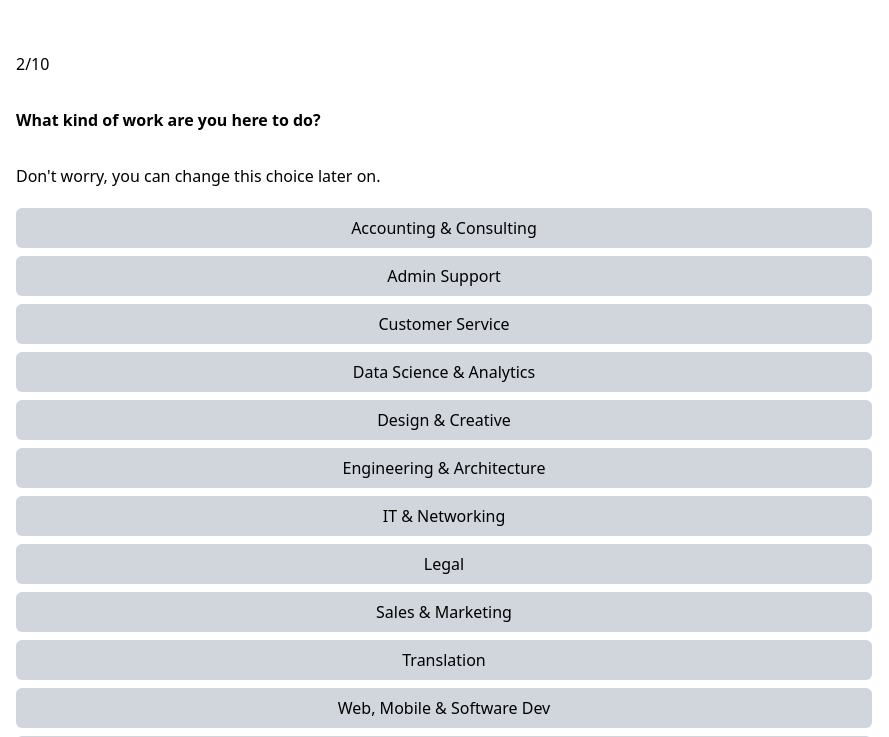
it: Step6 Component › enables the Next button when a category is selected
Step 1. Click the button "Accounting & Consulting" → (444, 228), box [16,208,872,248]
(page scrolled)
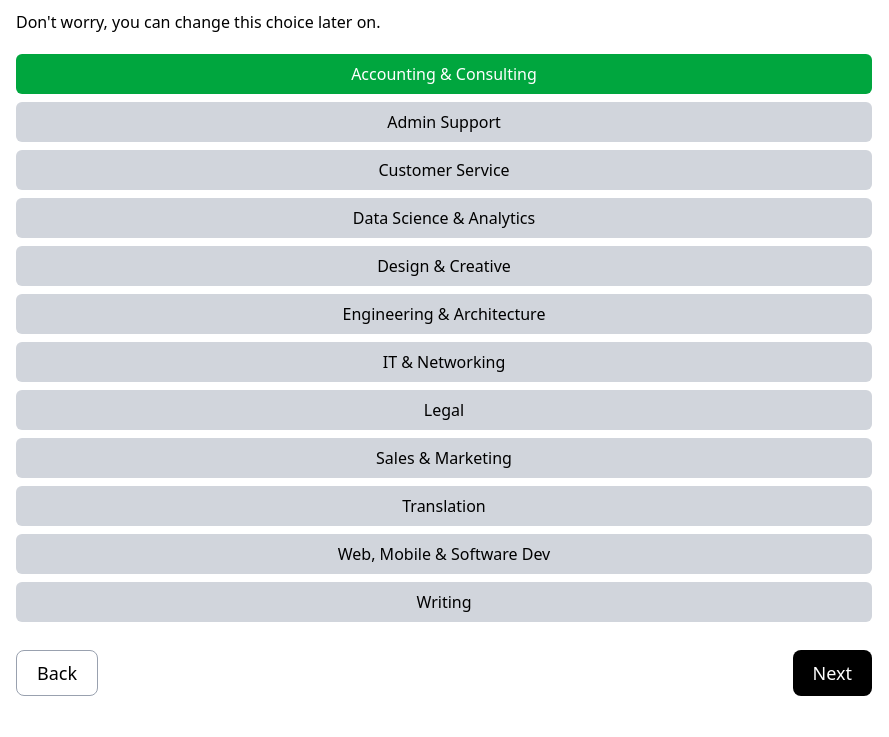
Expected: the button "Next" is enabled, [792,650,872,696]
